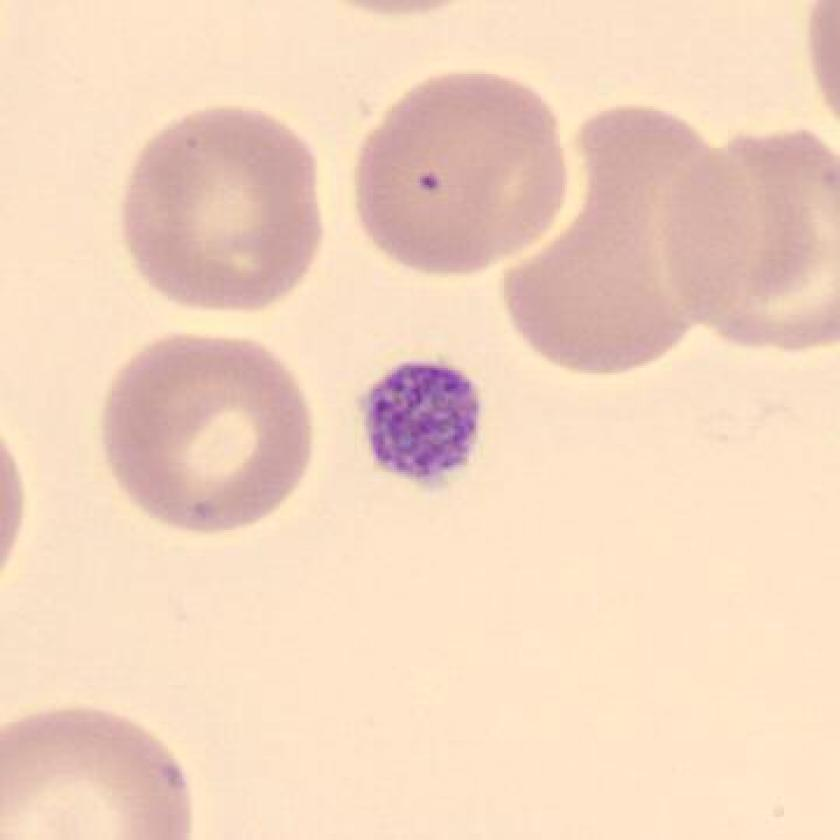platelets: (347, 355, 487, 503)
